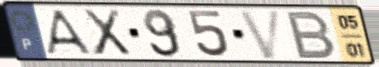5: (185, 10, 232, 59)
9: (142, 7, 185, 59)
A: (44, 8, 96, 57)
B: (285, 10, 339, 61)
V: (236, 8, 284, 61)
X: (80, 8, 134, 58)
